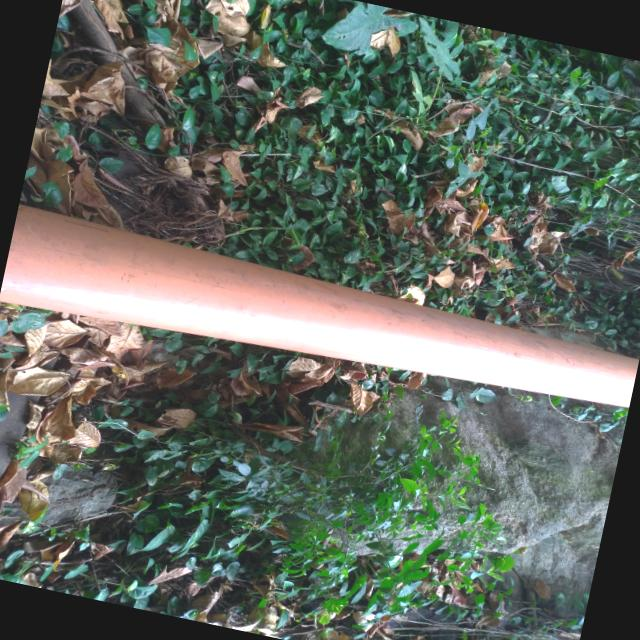gas: (0, 203, 639, 409)
